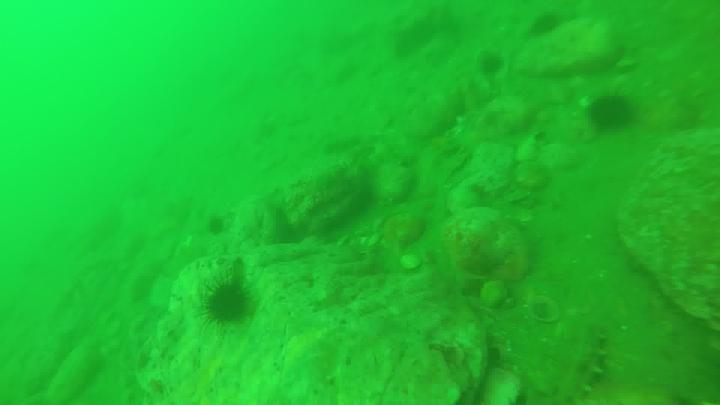echinus: (196, 282, 248, 332), (580, 93, 637, 131), (530, 12, 557, 36), (480, 59, 505, 74), (207, 215, 223, 230)
holothurian: (557, 326, 609, 405)
scallop: (524, 295, 563, 327)
